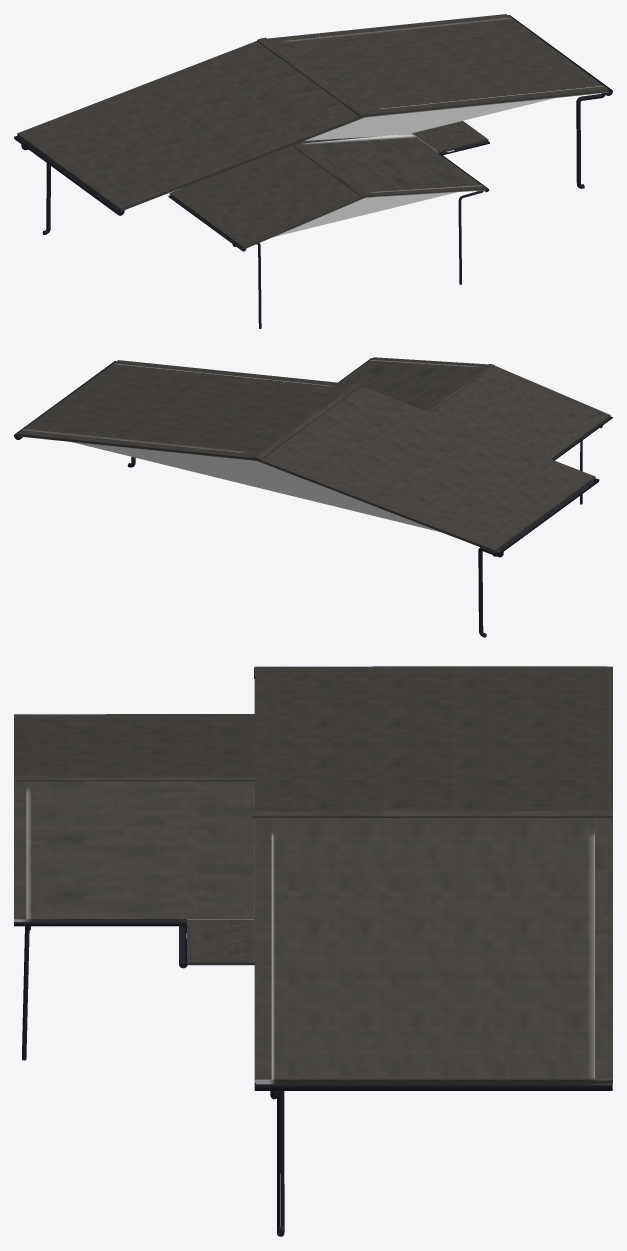
3 renders of one model, top to bottom at view 1: azimuth 30°, elevation 25°; view 2: azimuth 150°, elevation 25°; view 3: azimuth 270°, elevation 25°, orthographic. The views are drawn at different scales.
Visible parts, largest first — view 1: Cube.018, Cylinder.024, Cube.035, Cube.001, Cube; view 2: Cube.018, Cylinder.024, Cube.001, Cube; view 3: Cube.018, Cylinder.024, Cube.001, Cube.035, Cube.
Boxes of the visible parts, x1=… form: Cube.018: x1=17, y1=14, x2=609, y2=248; Cylinder.024: x1=14, y1=15, x2=612, y2=328; Cube.035: x1=412, y1=121, x2=488, y2=152; Cube.001: x1=257, y1=37, x2=369, y2=116; Cube: x1=292, y1=143, x2=367, y2=196; Cube.018: x1=17, y1=357, x2=610, y2=552; Cylinder.024: x1=14, y1=358, x2=612, y2=637; Cube.001: x1=251, y1=383, x2=362, y2=459; Cube: x1=426, y1=364, x2=494, y2=412; Cube.018: x1=14, y1=666, x2=612, y2=1084; Cylinder.024: x1=14, y1=667, x2=612, y2=1236; Cube.001: x1=252, y1=808, x2=612, y2=818; Cube.035: x1=187, y1=919, x2=254, y2=965; Cube: x1=15, y1=775, x2=254, y2=781.
Bounding box in the file's own units: 1349 × 352 × 815.
